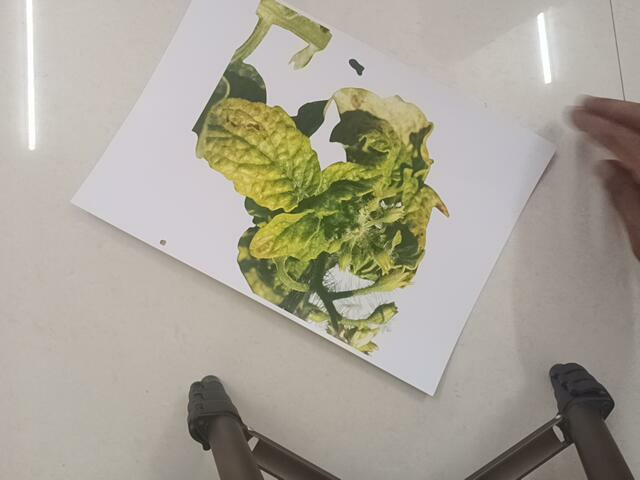Tomamto_Leaf_curl_virus: (192, 5, 467, 367)
